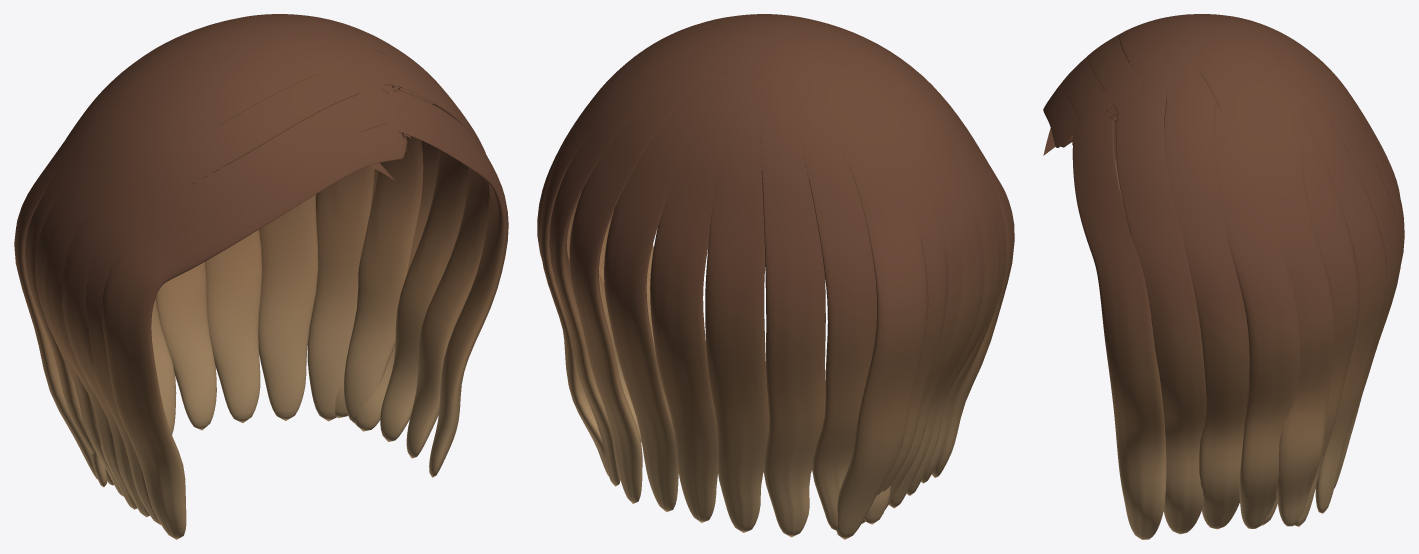
Rendered from Feminine-side-sweep-bucket260-hair-ombre.glb.
The picture shows the model from 3 angles, left to right: view 1: azimuth 30°, elevation 25°; view 2: azimuth 150°, elevation 25°; view 3: azimuth 270°, elevation 25°; orthographic projection. The views are drawn at different scales.
Parts seen in each view (by area): view 1: 226 hair / Hair / sculpted 0.002, 226 hair / Hair / sculpted 1.004, 226 hair / Hair / sculpted 2.002; view 2: 226 hair / Hair / sculpted 0.002, 226 hair / Hair / sculpted 2.002, 226 hair / Hair / sculpted 1.004; view 3: 226 hair / Hair / sculpted 1.004, 226 hair / Hair / sculpted 2.002, 226 hair / Hair / sculpted 0.002.
Boxes of the visible parts, left/top/right/bottom form: 226 hair / Hair / sculpted 0.002: left=14, top=14, right=468, bottom=539; 226 hair / Hair / sculpted 1.004: left=35, top=15, right=508, bottom=524; 226 hair / Hair / sculpted 2.002: left=25, top=15, right=489, bottom=517; 226 hair / Hair / sculpted 0.002: left=566, top=14, right=1014, bottom=539; 226 hair / Hair / sculpted 2.002: left=539, top=17, right=1000, bottom=530; 226 hair / Hair / sculpted 1.004: left=537, top=16, right=1006, bottom=537; 226 hair / Hair / sculpted 1.004: left=1061, top=14, right=1401, bottom=539; 226 hair / Hair / sculpted 2.002: left=1086, top=14, right=1404, bottom=534; 226 hair / Hair / sculpted 0.002: left=1043, top=15, right=1400, bottom=529.
Size of the model in its own units: 1.01 by 1.05 by 0.78.
